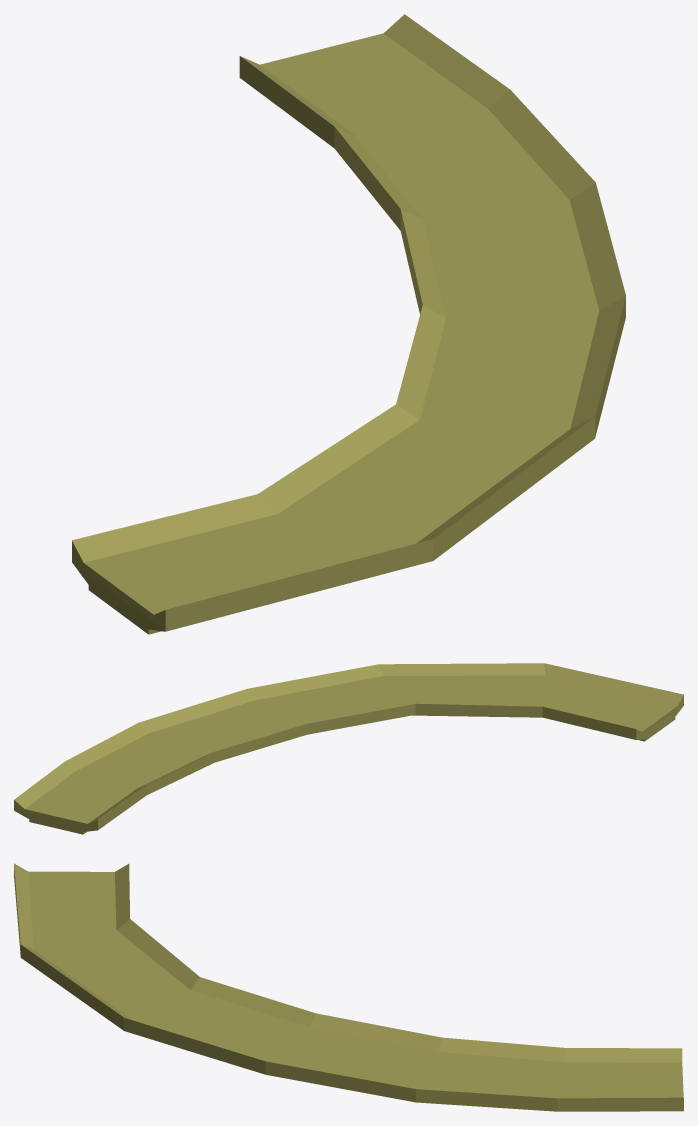
The model's file is ConnecterCorner.fbx.
3 views of the same model, one above another, from view 1: azimuth 30°, elevation 25°; view 2: azimuth 150°, elevation 25°; view 3: azimuth 270°, elevation 25° (orthographic). The views are drawn at different scales.
Visible parts, largest first — view 1: Cube.010; view 2: Cube.010; view 3: Cube.010.
Part boxes in pixels (left/top/right/bottom): Cube.010: left=72, top=14, right=625, bottom=634; Cube.010: left=14, top=663, right=683, bottom=834; Cube.010: left=14, top=863, right=683, bottom=1111.
Bounding box in the file's own units: 2217 × 2670 × 100.
